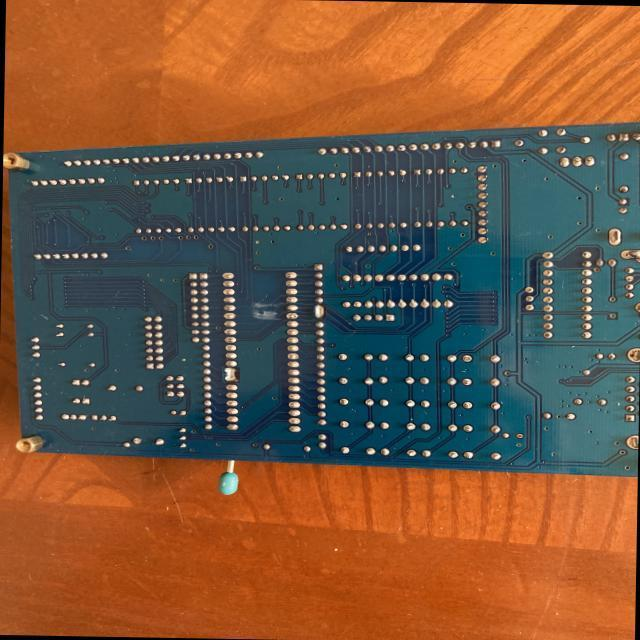damged: (222, 367, 240, 383), (313, 304, 326, 320)
